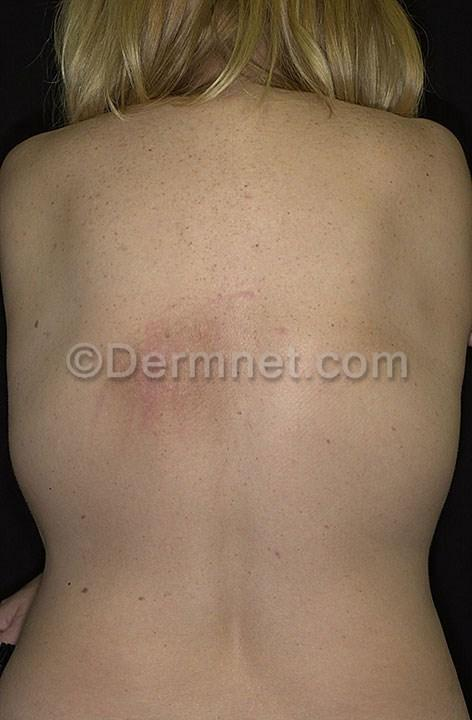Eczema: (120, 277, 296, 349), (106, 380, 230, 451)
